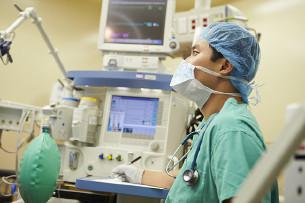OK: (173, 44, 228, 100)
